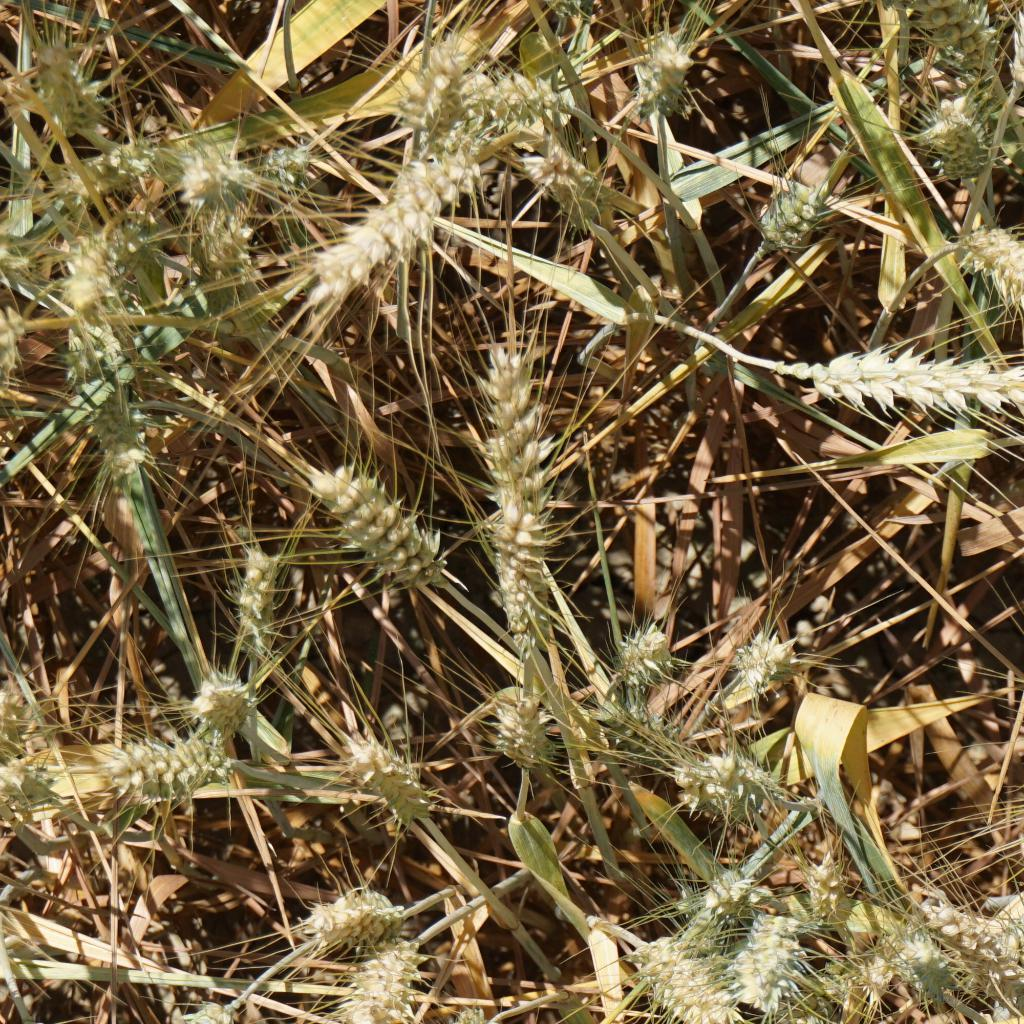0-0: (297, 145, 484, 315), (476, 334, 564, 661), (312, 460, 458, 588), (781, 348, 1024, 413), (487, 512, 559, 673), (740, 170, 846, 275), (920, 894, 1024, 997), (632, 927, 735, 1024), (51, 130, 175, 209), (675, 734, 772, 827), (224, 535, 285, 670), (98, 735, 218, 801), (346, 730, 439, 815), (396, 40, 468, 140), (17, 35, 94, 128), (742, 913, 807, 1018), (622, 28, 699, 115), (913, 98, 992, 182), (592, 687, 668, 772), (520, 145, 604, 221), (613, 611, 686, 698), (452, 71, 559, 128), (923, 0, 1004, 75), (958, 226, 1024, 317), (87, 403, 165, 479), (186, 666, 264, 742), (172, 137, 263, 201), (854, 922, 917, 1013), (303, 876, 400, 935), (183, 202, 259, 276), (343, 950, 417, 1024), (46, 257, 112, 339), (486, 695, 560, 765), (796, 953, 864, 1024), (728, 616, 792, 690), (888, 941, 956, 998), (53, 339, 125, 392), (806, 849, 852, 925), (117, 998, 239, 1024), (261, 137, 310, 200), (684, 870, 756, 912), (1, 750, 53, 801), (0, 217, 32, 292), (0, 309, 33, 376), (0, 680, 17, 768), (995, 905, 1024, 950), (428, 1006, 498, 1024)
